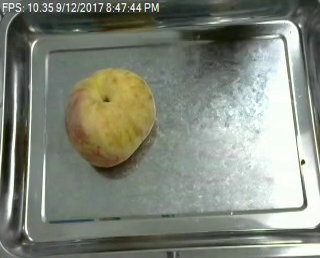Peach: (63, 68, 156, 167)
